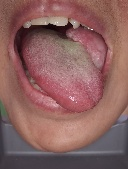tongue: (19, 35, 104, 114)
